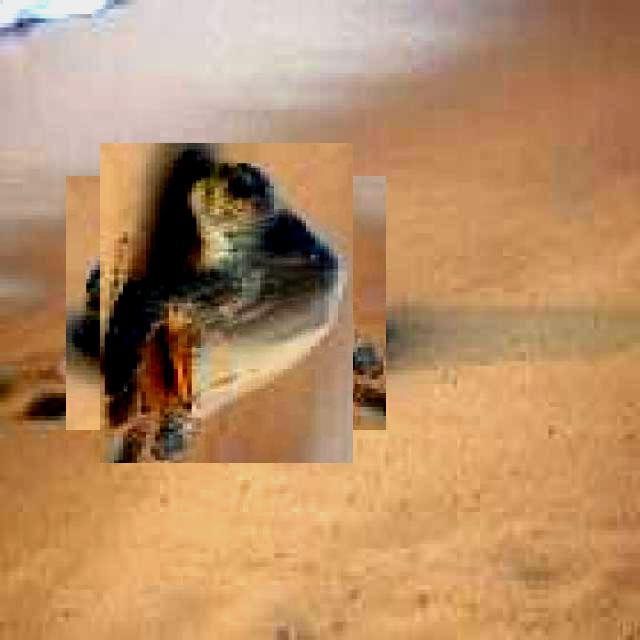Sea turtle: (83, 160, 370, 446)
